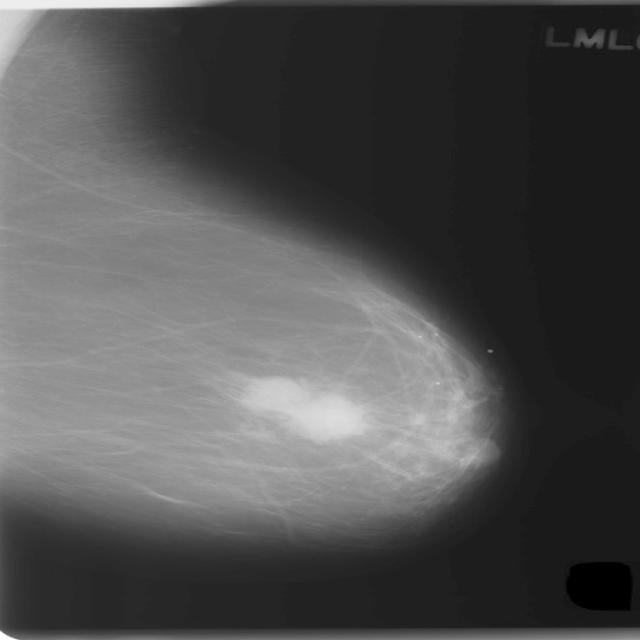tumour: (241, 374, 363, 439)
